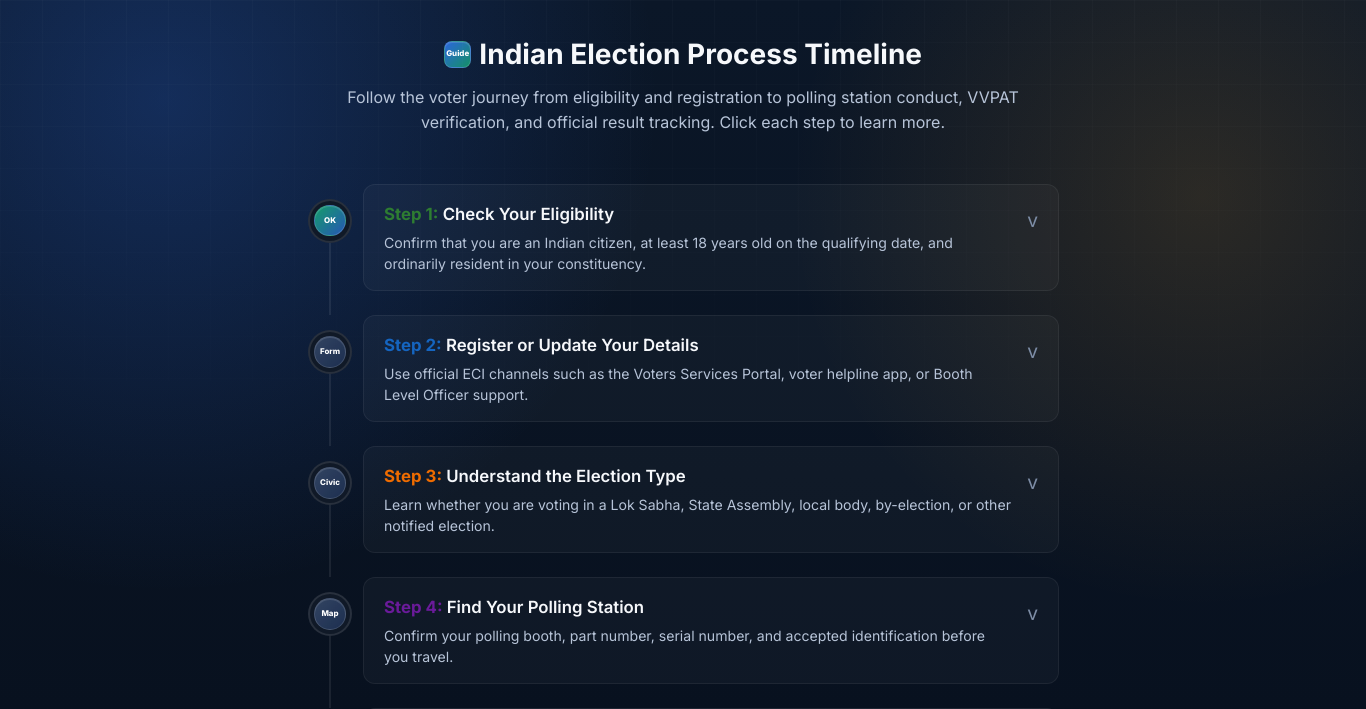
Test: Learn Page › collapses step when clicked again
Click the button "Check Your Eligibility" at (711, 238), box [363,184,1059,291]
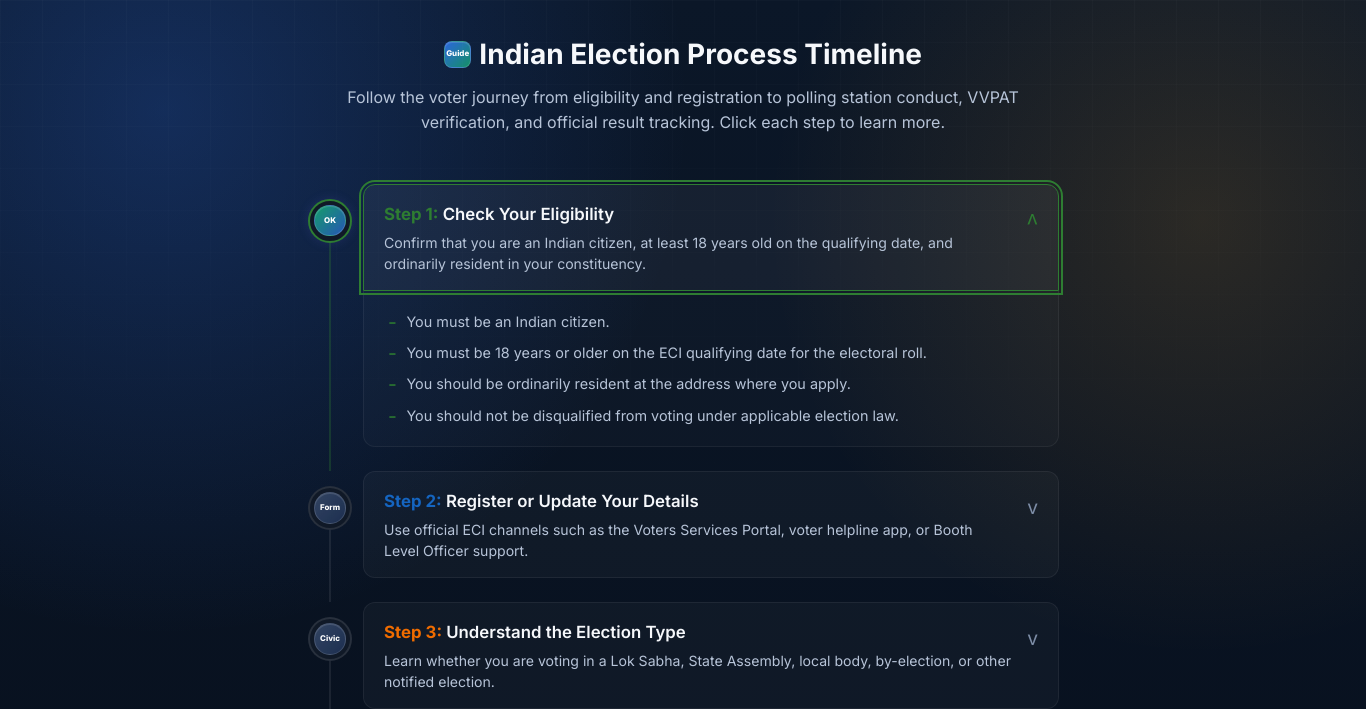
Expected: the button "Check Your Eligibility" is expanded
Click the button "Check Your Eligibility" at (711, 238), box [363,184,1059,291]
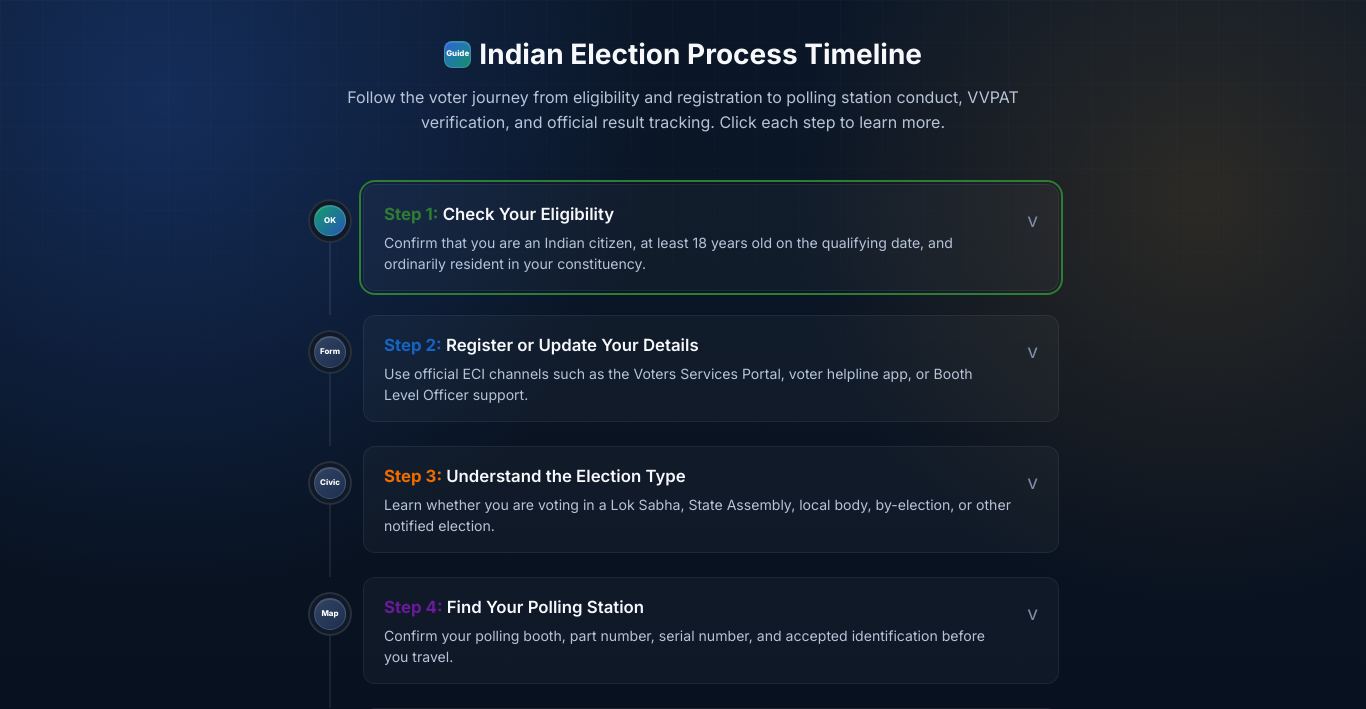
Expected: the button "Check Your Eligibility" is collapsed, [363,184,1059,291]
